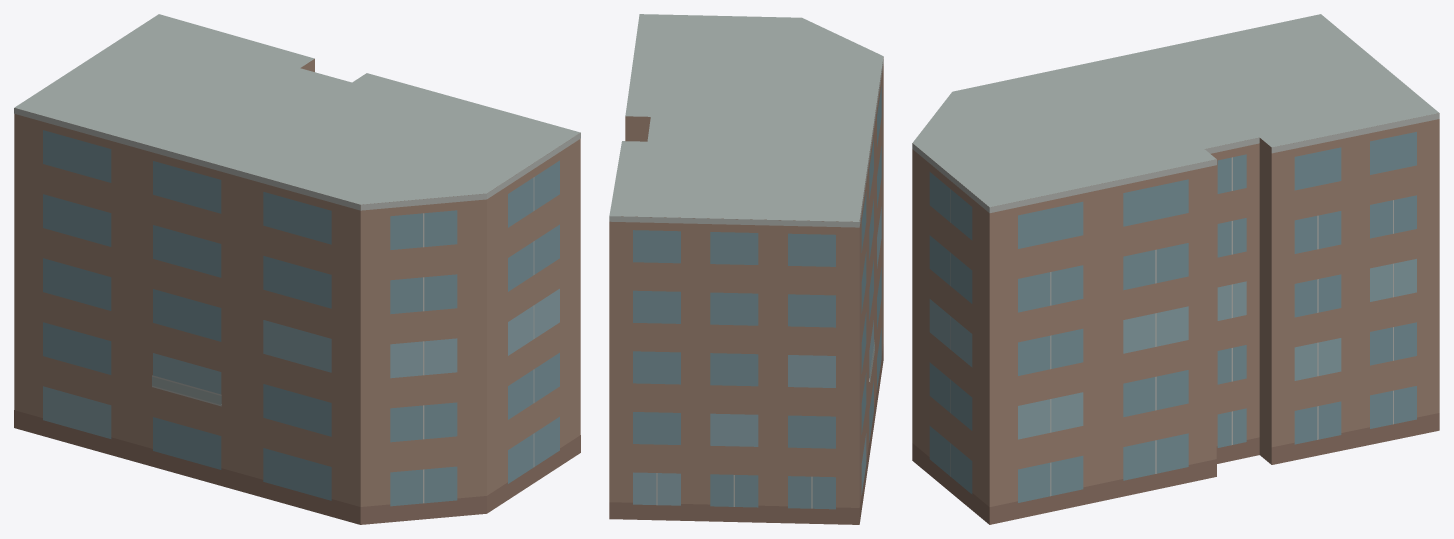
The model's file is survey-upis-33018076.glb.
3 renders of one model, left to right at view 1: azimuth 30°, elevation 25°; view 2: azimuth 150°, elevation 25°; view 3: azimuth 270°, elevation 25°, orthographic. The views are drawn at different scales.
Visible parts, largest first — view 1: survey-upis-33018076.tmp; view 2: survey-upis-33018076.tmp; view 3: survey-upis-33018076.tmp.
Boxes of the visible parts, <box> form: survey-upis-33018076.tmp: <box>14,14,580,524</box>; survey-upis-33018076.tmp: <box>609,14,883,524</box>; survey-upis-33018076.tmp: <box>912,14,1439,524</box>.
Size of the model in its own units: 17.1 by 13.09 by 19.71.
